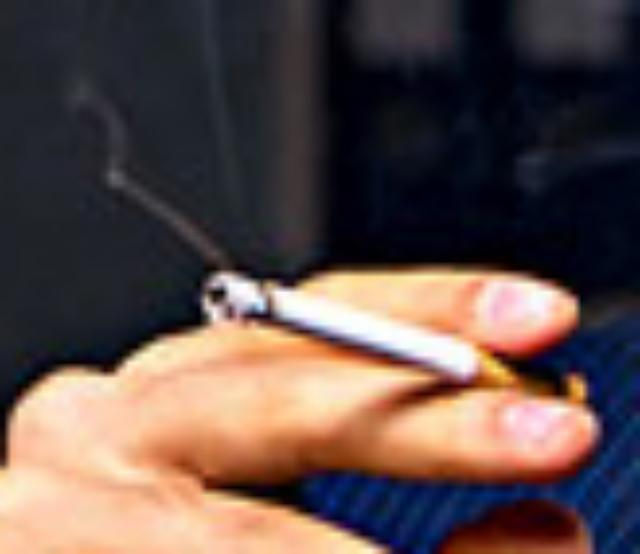Smoking: (200, 270, 590, 408)
